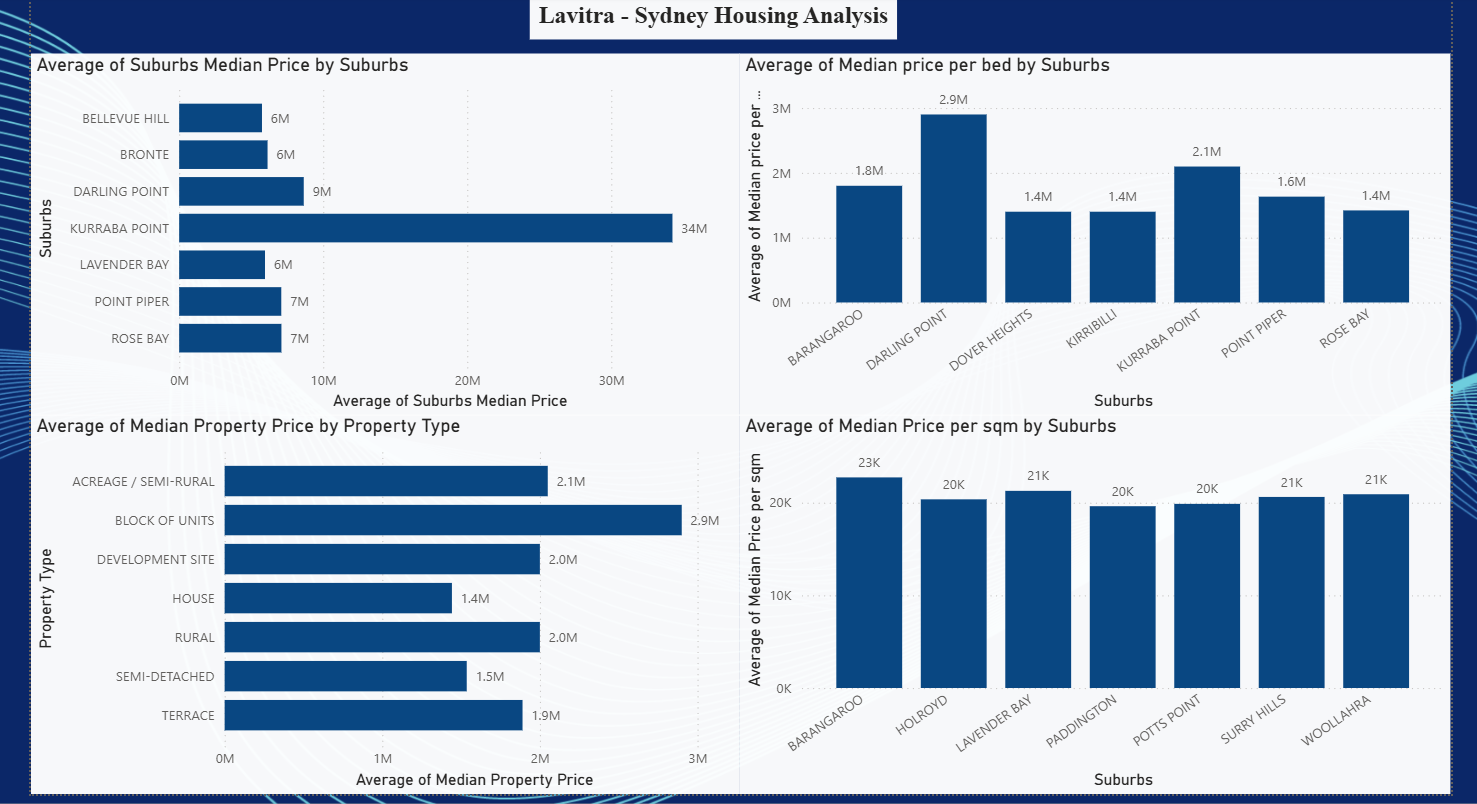

Layout of this report page (visuals, bound fields, positions):
{"tool":"powerbi","page":{"name":"Page 1","canvas":[1280,720],"ordinal":0},"visuals":[{"type":"barChart","fields":{"Category":["kpi_suburb_prices.Suburbs"],"Y":["Avg(kpi_suburb_prices.Suburbs Median Price)"]},"box":[0,51.4,639.5,326.5],"z":0},{"type":"barChart","fields":{"Category":["kpi_property_type_prices.Property Type"],"Y":["Avg(kpi_property_type_prices.Median Property Price)"]},"box":[0,377.9,639.5,342.4],"z":1000},{"type":"columnChart","fields":{"Category":["kpi_price_per_bed.Suburbs"],"Y":["Avg(kpi_price_per_bed.Median price per bed)"]},"box":[639.5,51.4,640.8,326.5],"z":2000},{"type":"columnChart","fields":{"Category":["kpi_price_per_sqm.Suburbs"],"Y":["Avg(kpi_price_per_sqm.Median Price per sqm)"]},"box":[639.5,377.9,640.8,342.4],"z":3000},{"type":"textbox","box":[449.7,0,331.4,39.4],"z":4000}]}

Visuals, with their boxes on the page's 1280x720 design canvas (x1, y1, x2, y2). These are canvas units, not pixel positions in the 1477x804 screenshot, which may show the page scaled, cropped or inside an application window:
barChart - kpi_suburb_prices.Suburbs x Avg(kpi_suburb_prices.Suburbs Median Price): [0, 51, 640, 378]
barChart - kpi_property_type_prices.Property Type x Avg(kpi_property_type_prices.Median Property Price): [0, 378, 640, 720]
columnChart - kpi_price_per_bed.Suburbs x Avg(kpi_price_per_bed.Median price per bed): [640, 51, 1280, 378]
columnChart - kpi_price_per_sqm.Suburbs x Avg(kpi_price_per_sqm.Median Price per sqm): [640, 378, 1280, 720]
textbox: [450, 0, 781, 39]
